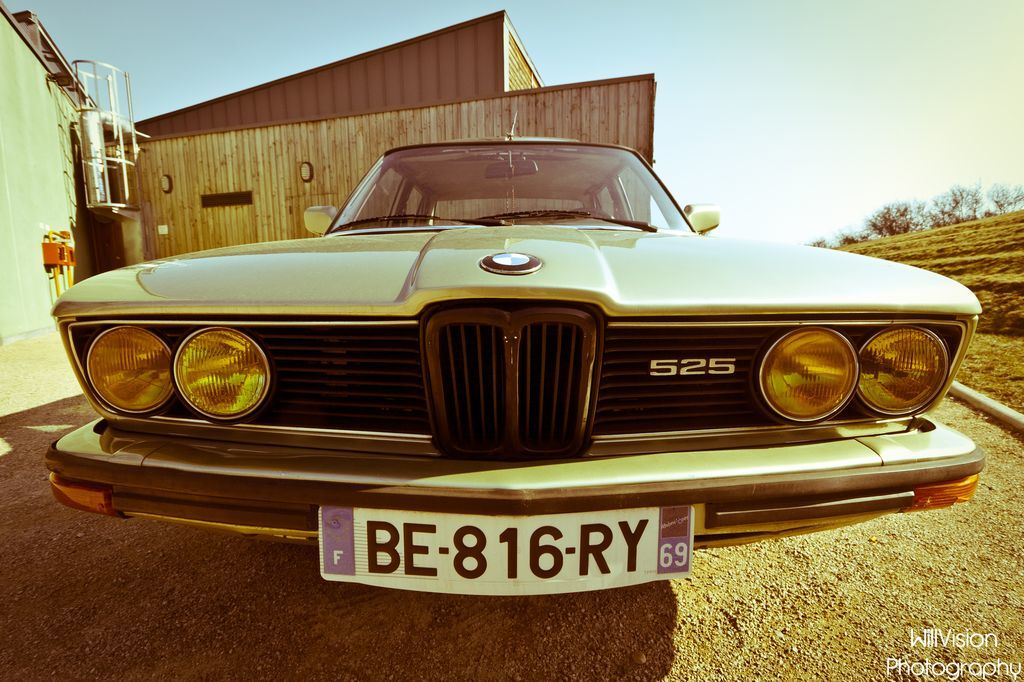mobil: (80, 153, 979, 606)
